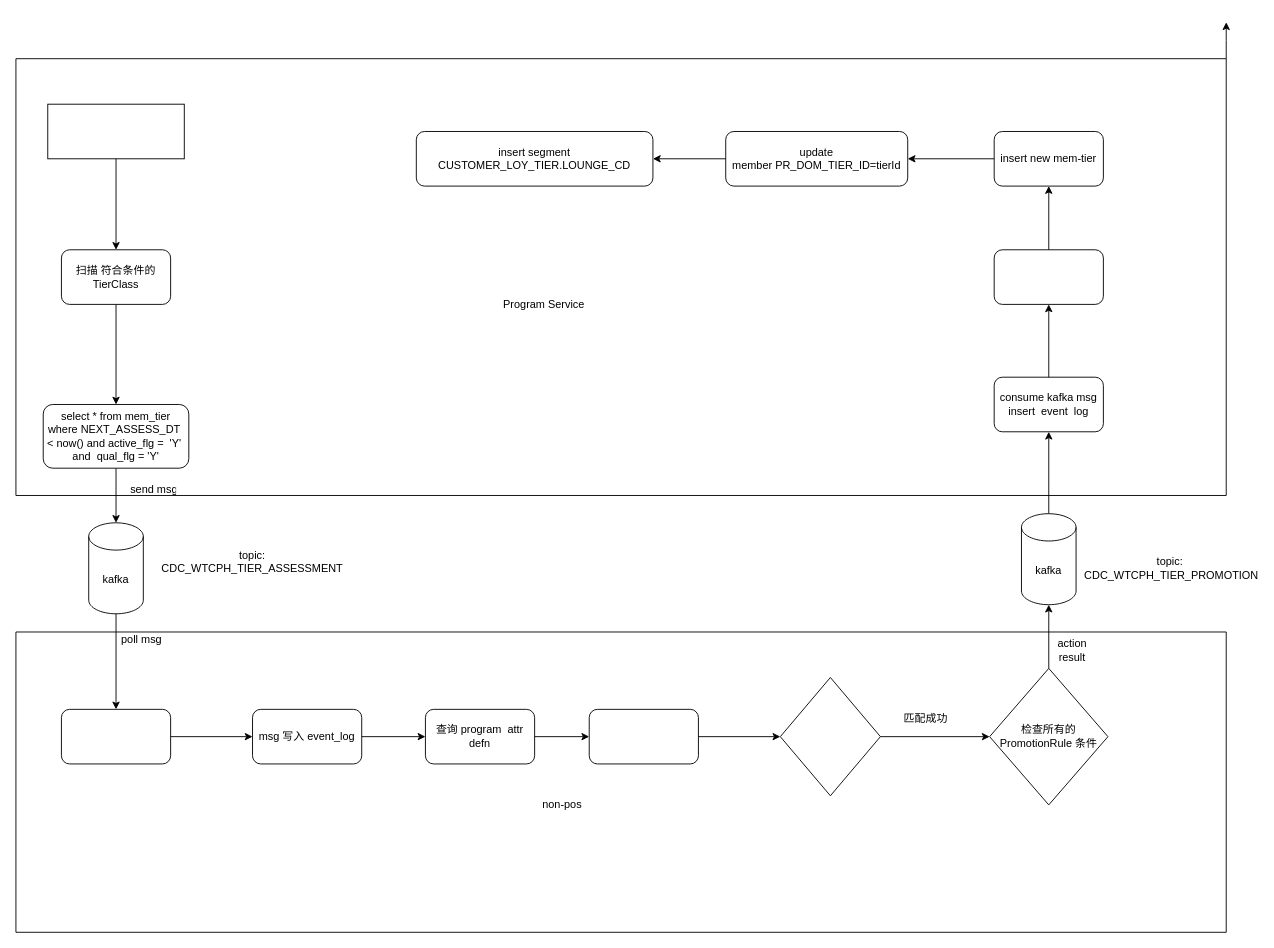
This 1274x948 diagram has some shape labels left out. Each missing label, with the centre of its shape:
"assessTierSchedule Job （每月 1 号 运行）" belongs at point (115, 131).
"consume msg" belongs at point (116, 736).
"old mem-tier 改为 active_flg = N" belongs at point (1048, 276).
"查询出active的Elite促销" belongs at point (643, 736).
"检查 促销 match type" belongs at point (829, 736).
